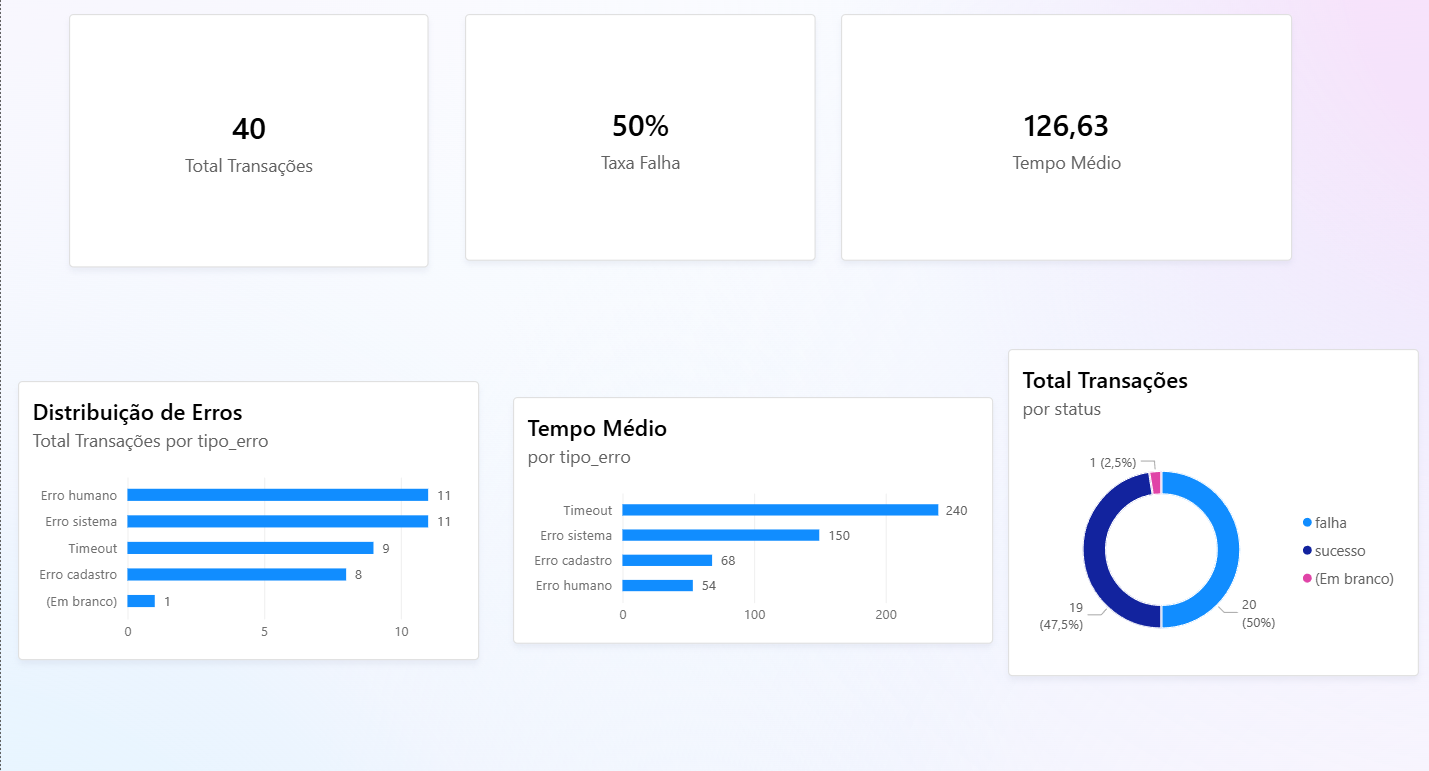

The page's visual inventory and layout, read from the dashboard file:
{"tool":"powerbi","page":{"name":"Página 1","canvas":[1280,720],"ordinal":0},"visuals":[{"type":"card","fields":{"Values":["Tipos_de_erro.Total Transações"]},"box":[86,36.7,352.8,175.5],"z":0,"group":"g1"},{"type":"clusteredBarChart","title":"Distribuição de Erros","fields":{"Category":["Tipos_de_erro.tipo_erro"],"Y":["Tipos_de_erro.Total Transações"]},"box":[20.6,275,380,275],"z":0},{"type":"card","fields":{"Values":["Tipos_de_erro.Tempo Médio"]},"box":[829.3,36.7,352.8,175.5],"z":1000,"group":"g1"},{"type":"clusteredBarChart","fields":{"Category":["Tipos_de_erro.tipo_erro"],"Y":["Tipos_de_erro.Tempo Médio"]},"box":[445,275,380,275],"z":1000},{"type":"card","fields":{"Values":["Tipos_de_erro.Taxa Falha"]},"box":[460.8,36.7,346.6,175.5],"z":2000,"group":"g1"},{"type":"donutChart","fields":{"Category":["Tipos_de_erro.status"],"Y":["Tipos_de_erro.Total Transações"]},"box":[870,275,380,275],"z":2000},{"type":"group","id":"g1","title":"Grupo 1","box":[86,36.7,1096.1,175.5],"z":3000}]}

Visuals, with their boxes on the page's 1280x720 design canvas (x1, y1, x2, y2). These are canvas units, not pixel positions in the 1429x771 screenshot, which may show the page scaled, cropped or inside an application window:
card - Tipos_de_erro.Total Transações: box=[86, 37, 439, 212]
"Distribuição de Erros" clusteredBarChart: box=[21, 275, 401, 550]
card - Tipos_de_erro.Tempo Médio: box=[829, 37, 1182, 212]
clusteredBarChart - Tipos_de_erro.tipo_erro x Tipos_de_erro.Tempo Médio: box=[445, 275, 825, 550]
card - Tipos_de_erro.Taxa Falha: box=[461, 37, 807, 212]
donutChart - Tipos_de_erro.status x Tipos_de_erro.Total Transações: box=[870, 275, 1250, 550]
"Grupo 1" group: box=[86, 37, 1182, 212]
